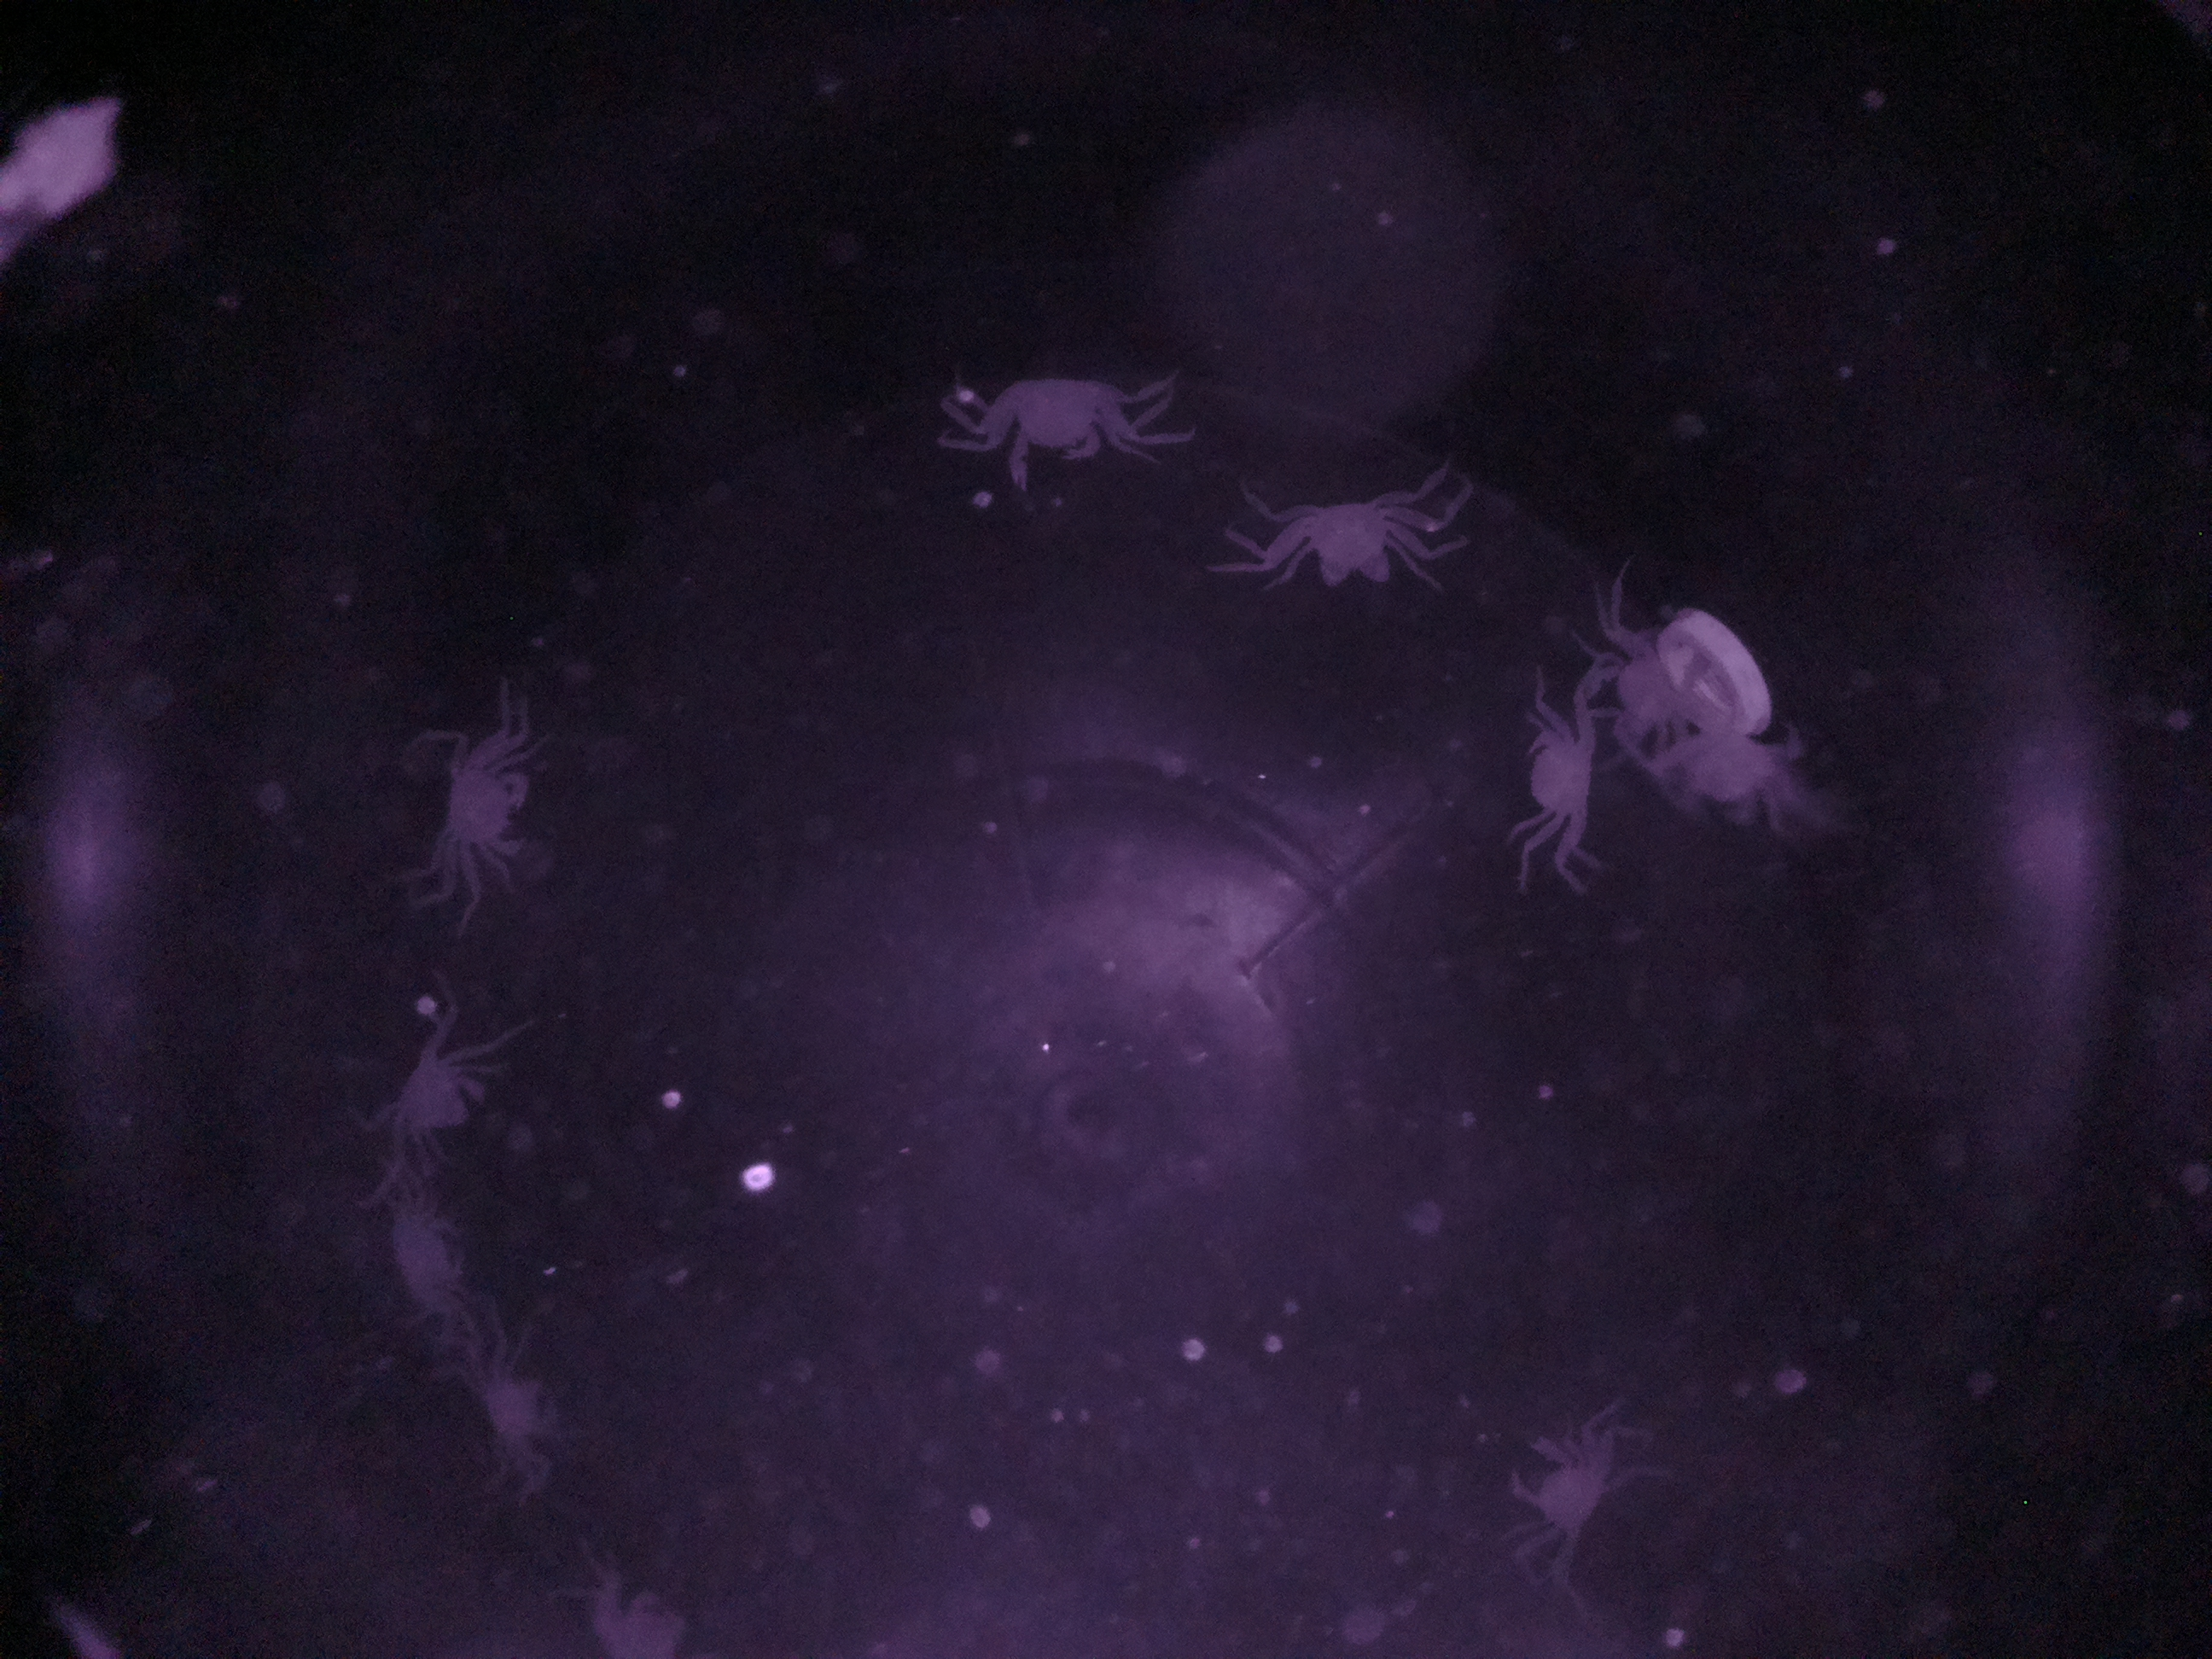Crab: (1484, 1403, 1653, 1582), (1249, 460, 1425, 622), (421, 714, 556, 911), (348, 988, 491, 1173), (972, 345, 1132, 498), (1500, 683, 1616, 866)
